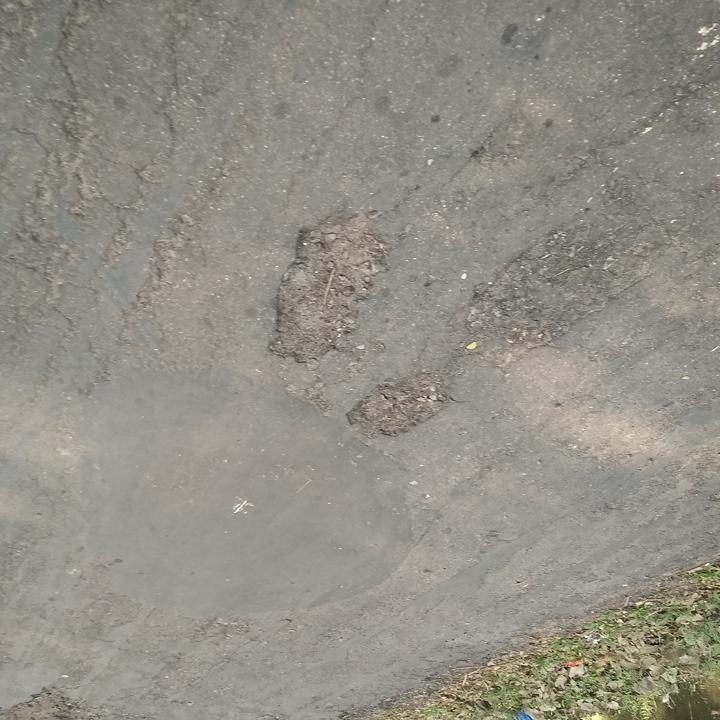pothole: (458, 225, 653, 368), (267, 204, 390, 369), (341, 364, 456, 440), (0, 684, 114, 719)
